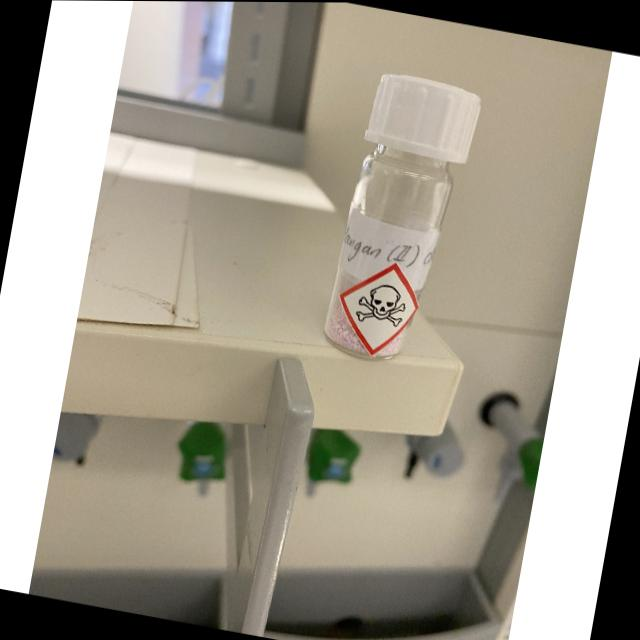acute toxicity: (329, 252, 426, 363)
